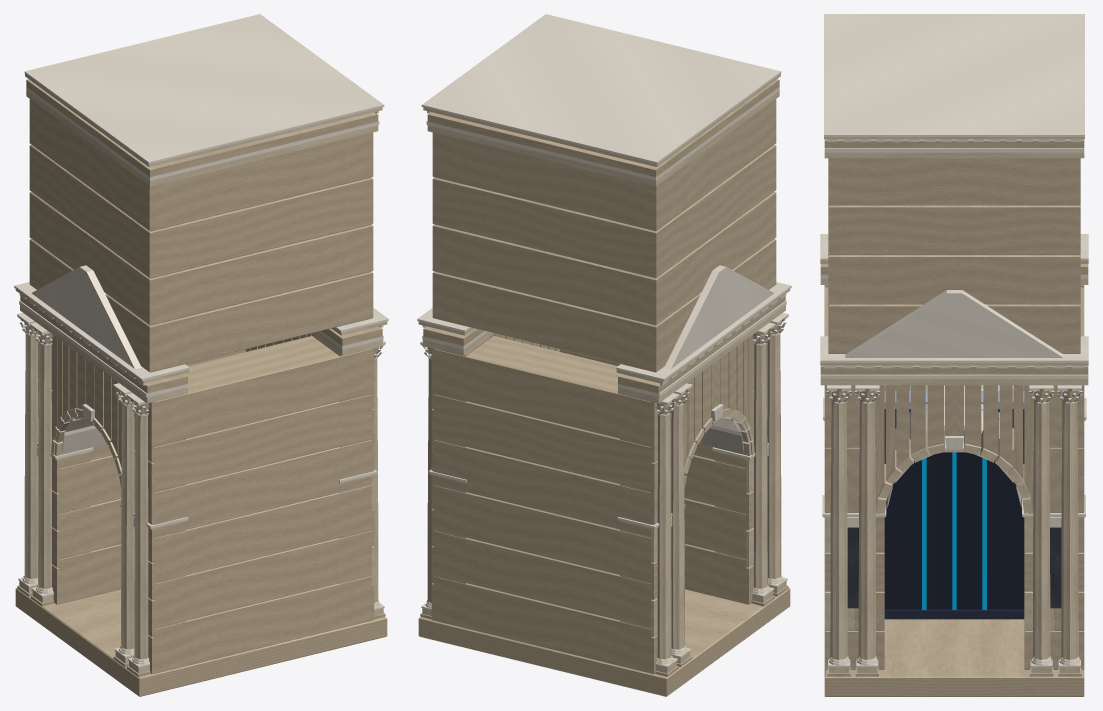
Rendered from COL_GateTower_West.obj.
3 views of the same model, side by side, from view 1: azimuth 30°, elevation 25°; view 2: azimuth 150°, elevation 25°; view 3: azimuth 270°, elevation 25° (orthographic). The views are drawn at different scales.
Visible parts, largest first — view 1: COL_GateTower_West; view 2: COL_GateTower_West; view 3: COL_GateTower_West.
Part boxes in pixels (x1,y1,x2,y2): COL_GateTower_West: [14, 14, 388, 696]; COL_GateTower_West: [417, 14, 791, 696]; COL_GateTower_West: [820, 14, 1088, 696].
Bounding box in the file's own units: 32.18 × 65.7 × 28.52.
Materials: 9 (9 with a texture image).
